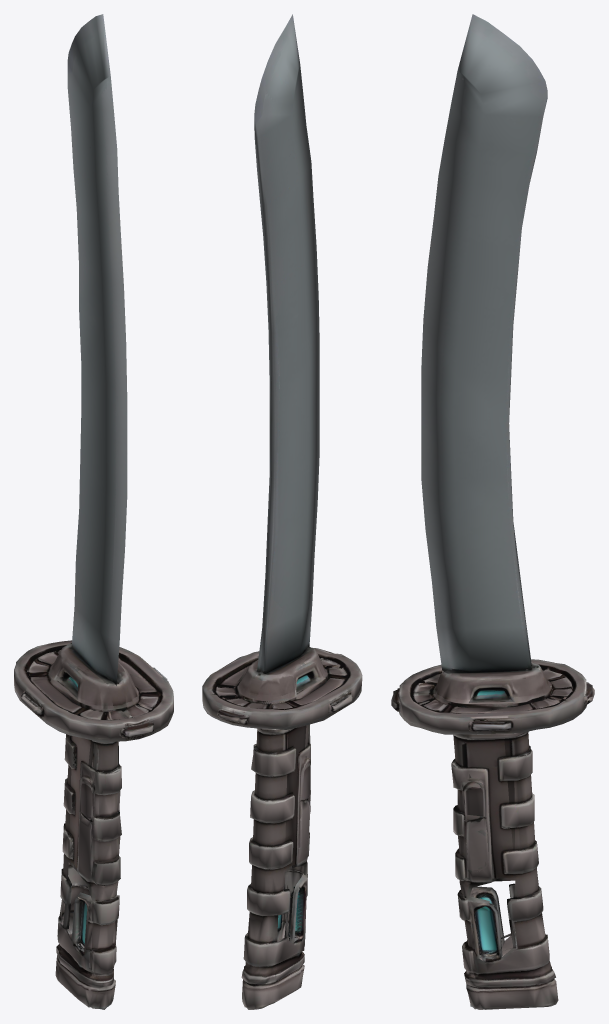
The model's file is 019efacf-52f8-7b91-82f3-61a207a6908e.glb.
3 renders of one model, left to right at view 1: azimuth 30°, elevation 25°; view 2: azimuth 150°, elevation 25°; view 3: azimuth 270°, elevation 25°, orthographic. The views are drawn at different scales.
Parts seen in each view (by area): view 1: tripo_node_f05d6057-8604-4bca-a6f7-2f9821d2cd8c; view 2: tripo_node_f05d6057-8604-4bca-a6f7-2f9821d2cd8c; view 3: tripo_node_f05d6057-8604-4bca-a6f7-2f9821d2cd8c.
Part boxes in pixels (<box>): tripo_node_f05d6057-8604-4bca-a6f7-2f9821d2cd8c: <box>14,14,173,1009</box>; tripo_node_f05d6057-8604-4bca-a6f7-2f9821d2cd8c: <box>202,14,362,1009</box>; tripo_node_f05d6057-8604-4bca-a6f7-2f9821d2cd8c: <box>391,14,594,1009</box>.
Bounding box in the file's own units: 0.1387 × 0.998 × 0.1855.
Materials: 1 (1 with a texture image).
